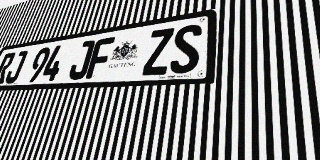4: (40, 44, 67, 82)
9: (26, 47, 52, 82)
F: (85, 37, 115, 79)
J: (67, 40, 96, 80), (3, 50, 29, 84)
R: (0, 52, 16, 84)
S: (169, 23, 202, 74)
Z: (142, 28, 174, 76)
